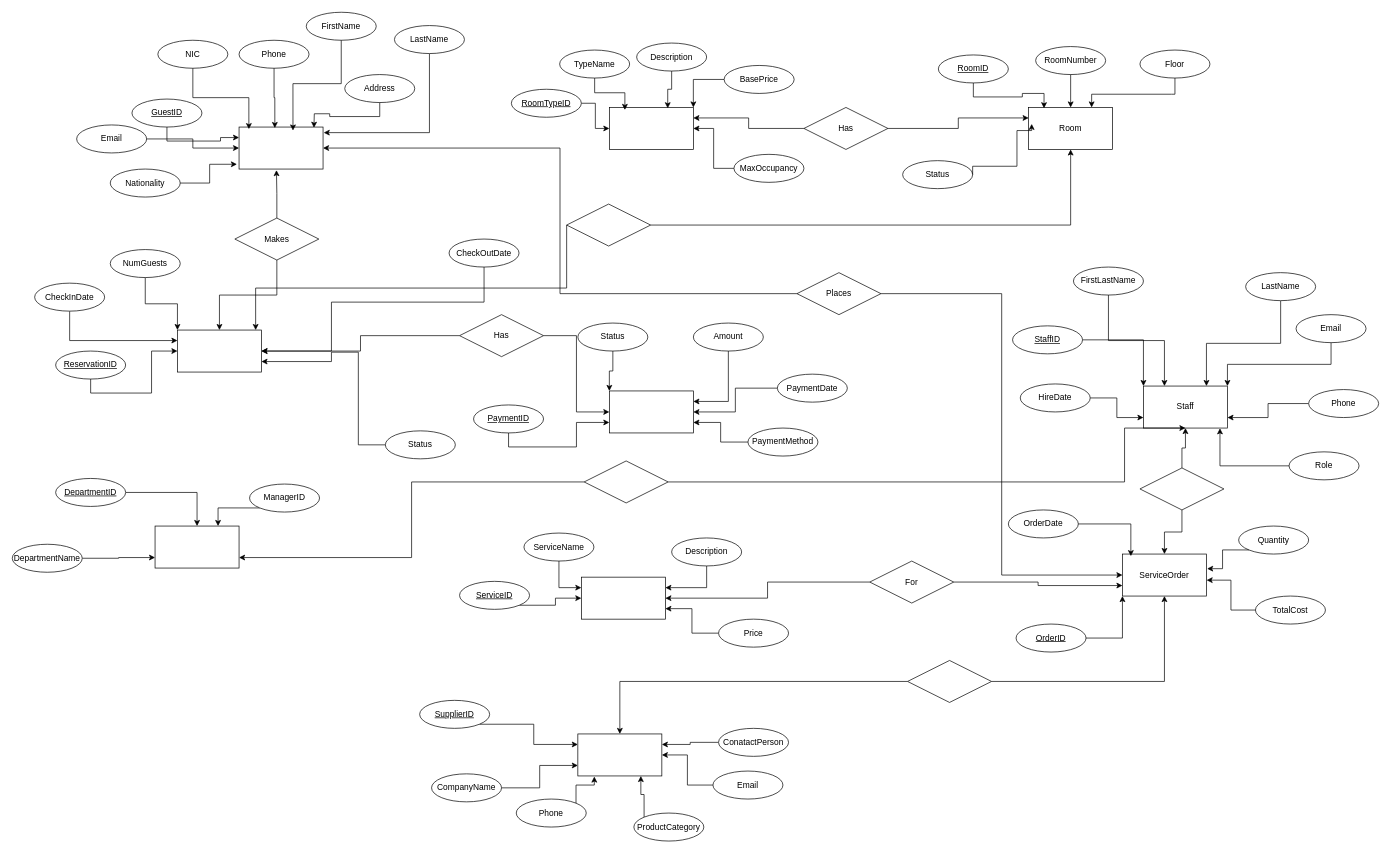
Some shapes in this 1391 by 853 pixel diagram are drawn without their labels. The shapes that lost their labels are listed below. From the top down, each one's centre as x and y in pixels, then its label:
At point (280, 147): "Guest".
At point (651, 128): "RoomType".
At point (608, 224): "Includes".
At point (219, 350): "Reservation".
At point (651, 411): "Payment".
At point (625, 481): "Belongs".
At point (1181, 488): "Handles".
At point (196, 546): "Department".
At point (623, 597): "Service".
At point (949, 681): "Supplies".
At point (619, 754): "Supplier".
